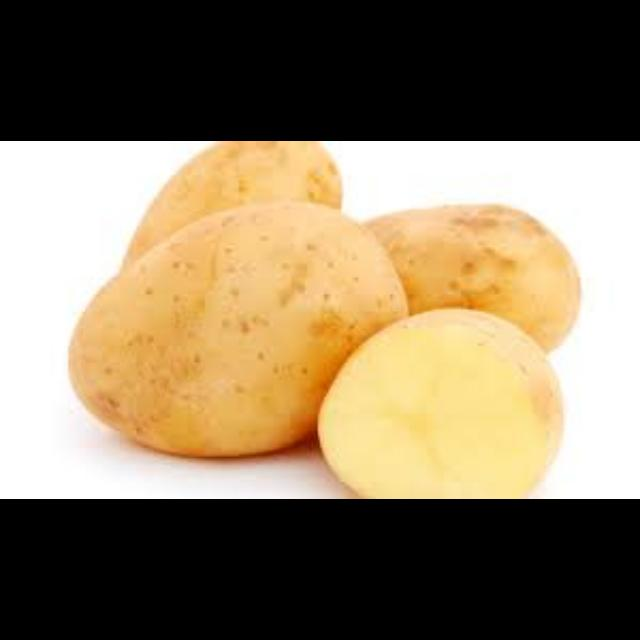Potato: (59, 196, 415, 464), (272, 194, 586, 390)
